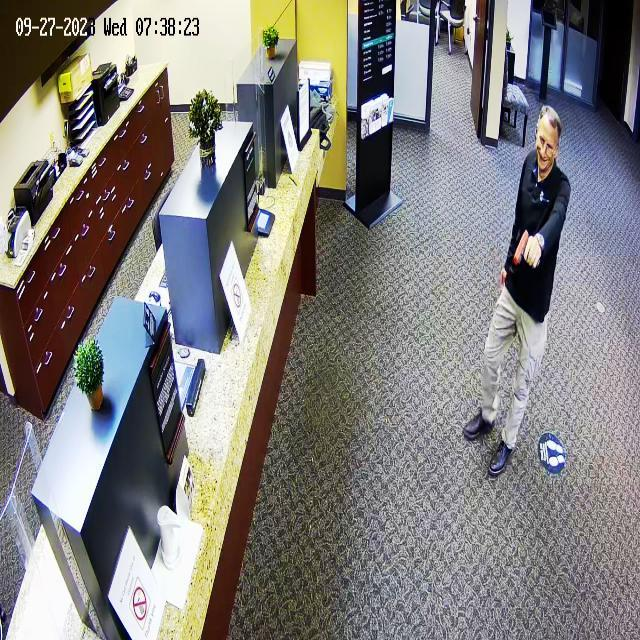Gun: (505, 215, 537, 274)
